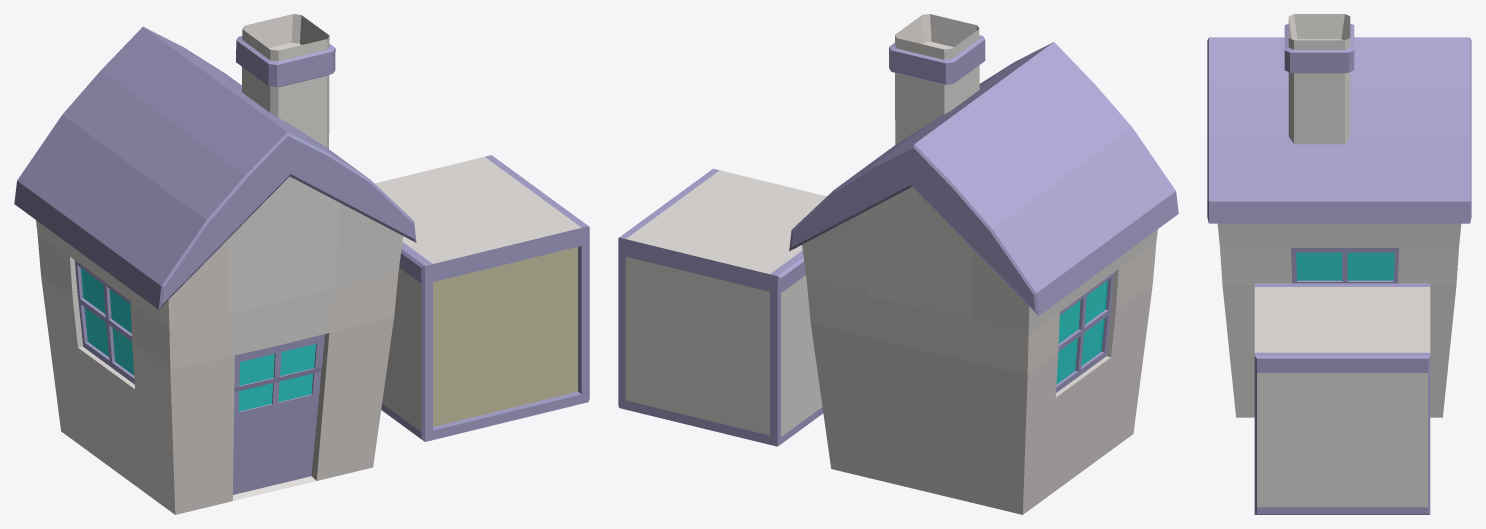
File: house4.fbx
3 renders of one model, left to right at view 1: azimuth 30°, elevation 25°; view 2: azimuth 150°, elevation 25°; view 3: azimuth 270°, elevation 25°, orthographic. The views are drawn at different scales.
Parts seen in each view (by area): view 1: polySurface218; view 2: polySurface218; view 3: polySurface218.
Boxes of the visible parts, x1,y1,x2,y2 form: polySurface218: [14, 14, 589, 514]; polySurface218: [618, 14, 1178, 514]; polySurface218: [1207, 14, 1471, 514].
Bounding box in the file's own units: 2.77 × 2.38 × 1.53.
